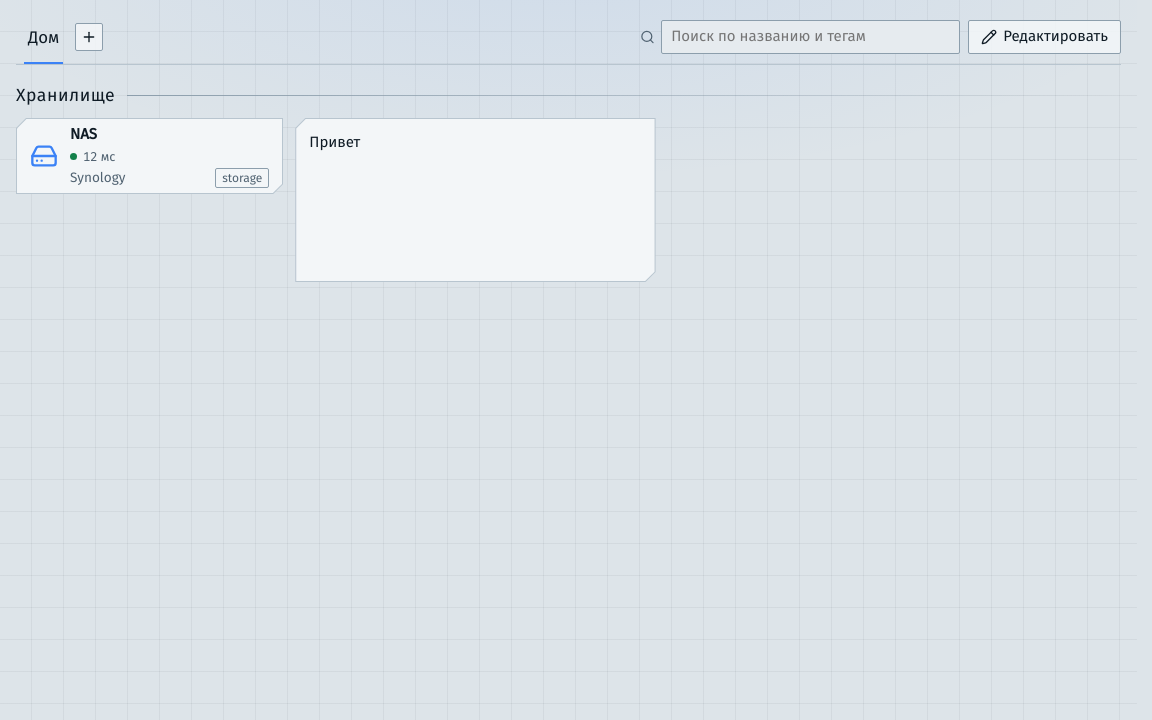
Test: HomeView › filters by tag in search
Type "stor" into the search field with placeholder "Поиск по названию и тегам". click: (811, 37)
box: x1=661 y1=20 x2=960 y2=54
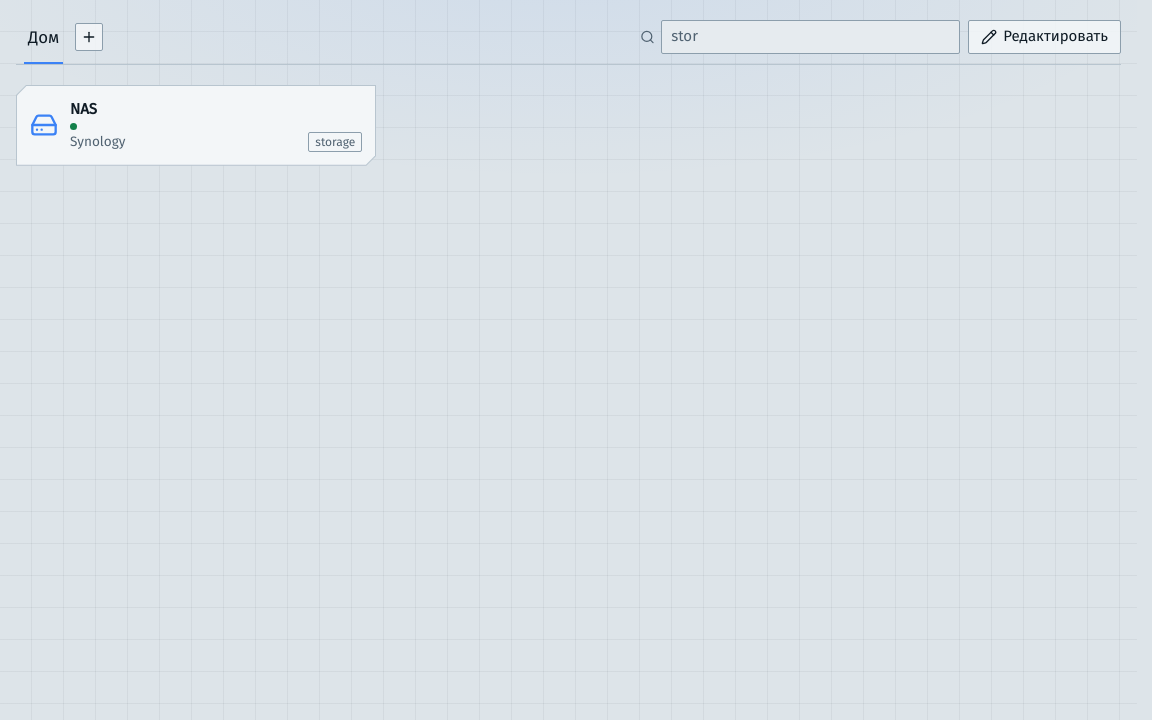
Replace the text in the search field with "zzz". click: (811, 37)
box: x1=661 y1=20 x2=960 y2=54
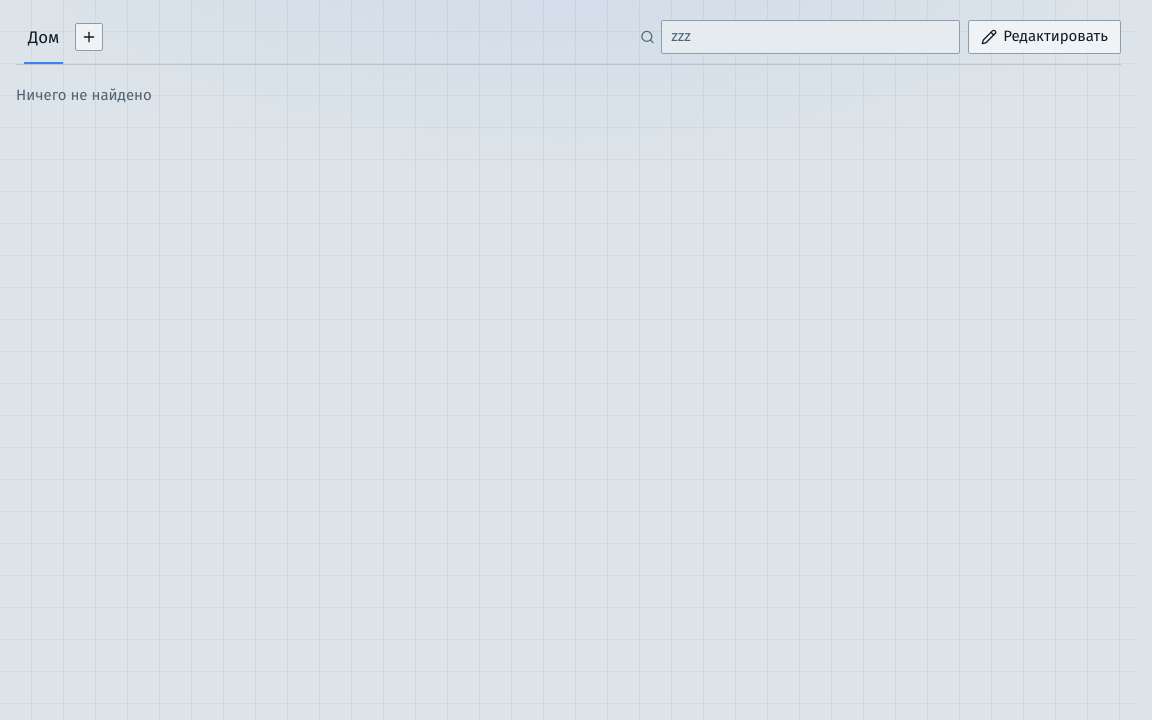
expect the text "Ничего не найдено" is shown: met, box x1=16 y1=86 x2=152 y2=104
